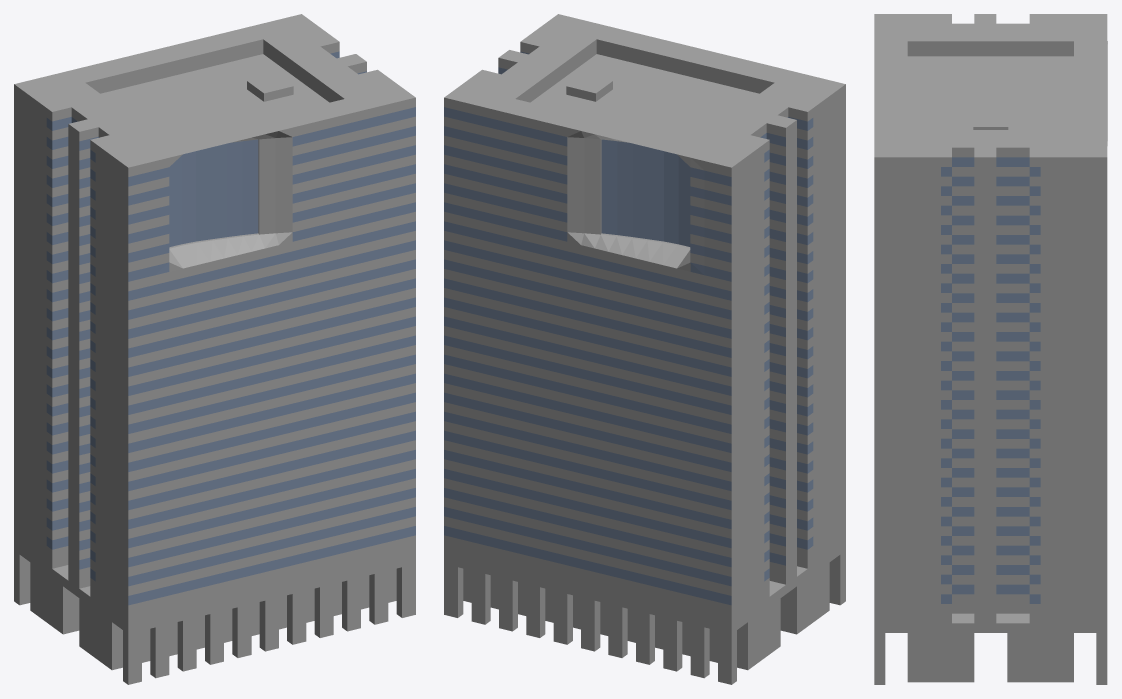
The model's file is SpecialBuilding6.fbx.
3 views of the same model, side by side, from view 1: azimuth 30°, elevation 25°; view 2: azimuth 150°, elevation 25°; view 3: azimuth 270°, elevation 25° (orthographic). The views are drawn at different scales.
Visible parts, largest first — view 1: SpecialBuilding13; view 2: SpecialBuilding13; view 3: SpecialBuilding13.
Boxes of the visible parts, x1=… form: SpecialBuilding13: x1=14, y1=14, x2=415, y2=684; SpecialBuilding13: x1=444, y1=14, x2=845, y2=684; SpecialBuilding13: x1=874, y1=14, x2=1107, y2=684.
Bounding box in the file's own units: 15.42 × 26.5 × 10.61.
